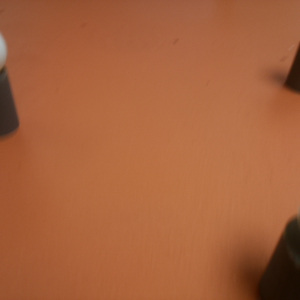obstacle: (253, 200, 300, 297), (1, 40, 24, 144), (281, 44, 300, 99)
